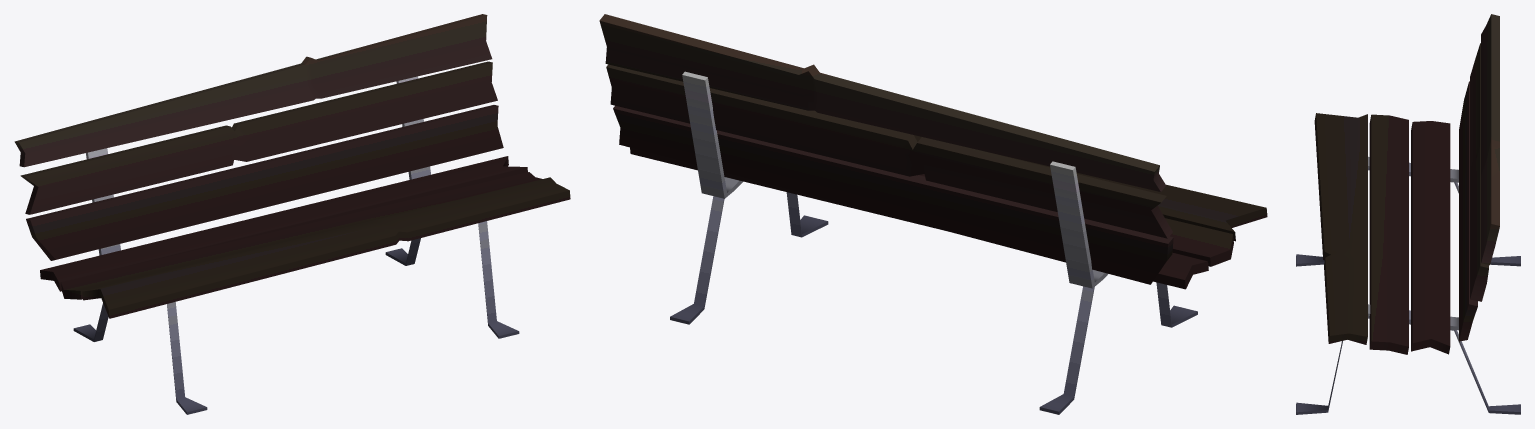
The model's file is SM_ParkBench.fbx.
3 renders of one model, left to right at view 1: azimuth 30°, elevation 25°; view 2: azimuth 150°, elevation 25°; view 3: azimuth 270°, elevation 25°, orthographic. The views are drawn at different scales.
Visible parts, largest first — view 1: polySurface38, polySurface33; view 2: polySurface38, polySurface33; view 3: polySurface38, polySurface33.
Part boxes in pixels (<box>): polySurface38: <box>14,14,570,318</box>; polySurface33: <box>73,76,519,414</box>; polySurface38: <box>599,14,1267,289</box>; polySurface33: <box>670,71,1197,414</box>; polySurface38: <box>1314,14,1499,354</box>; polySurface33: <box>1296,156,1520,414</box>.
Bounding box in the file's own units: 184 × 85.08 × 77.08.
